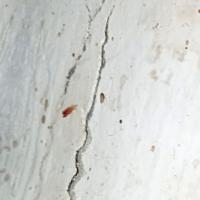crack: (52, 0, 122, 199)
